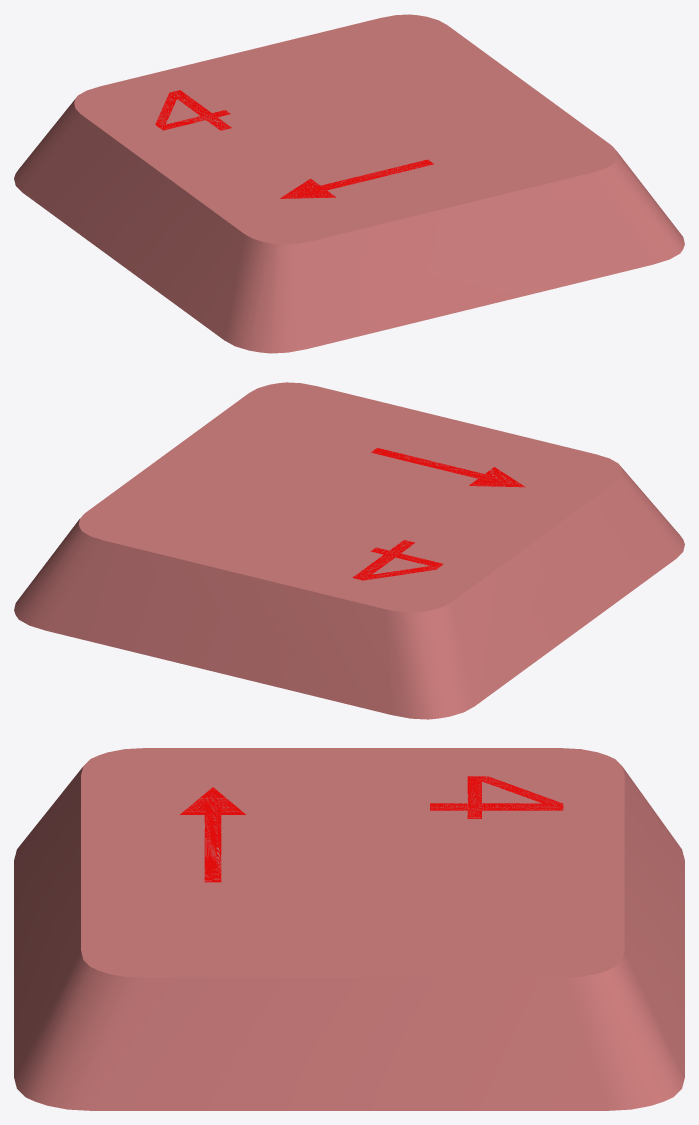
The model's file is original-40.obj.
3 renders of one model, top to bottom at view 1: azimuth 30°, elevation 25°; view 2: azimuth 150°, elevation 25°; view 3: azimuth 270°, elevation 25°, orthographic. The views are drawn at different scales.
Parts seen in each view (by area): view 1: mesh36/mesh36-geometry#mesh36-geometry; view 2: mesh36/mesh36-geometry#mesh36-geometry; view 3: mesh36/mesh36-geometry#mesh36-geometry.
Boxes of the visible parts, <box> form: mesh36/mesh36-geometry#mesh36-geometry: <box>14,14,684,353</box>; mesh36/mesh36-geometry#mesh36-geometry: <box>14,382,684,719</box>; mesh36/mesh36-geometry#mesh36-geometry: <box>14,748,684,1110</box>.
Size of the model in its own units: 0.07 by 0.012 by 0.07.
